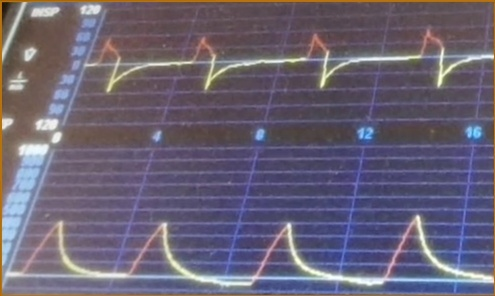Normal Flow: (85, 24, 495, 101)
Normal Volume: (18, 212, 492, 289)
